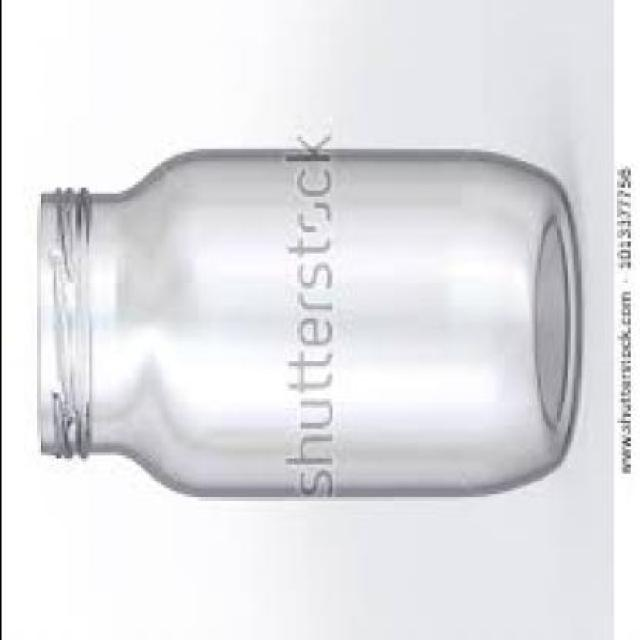GLASS: (32, 152, 577, 497)
